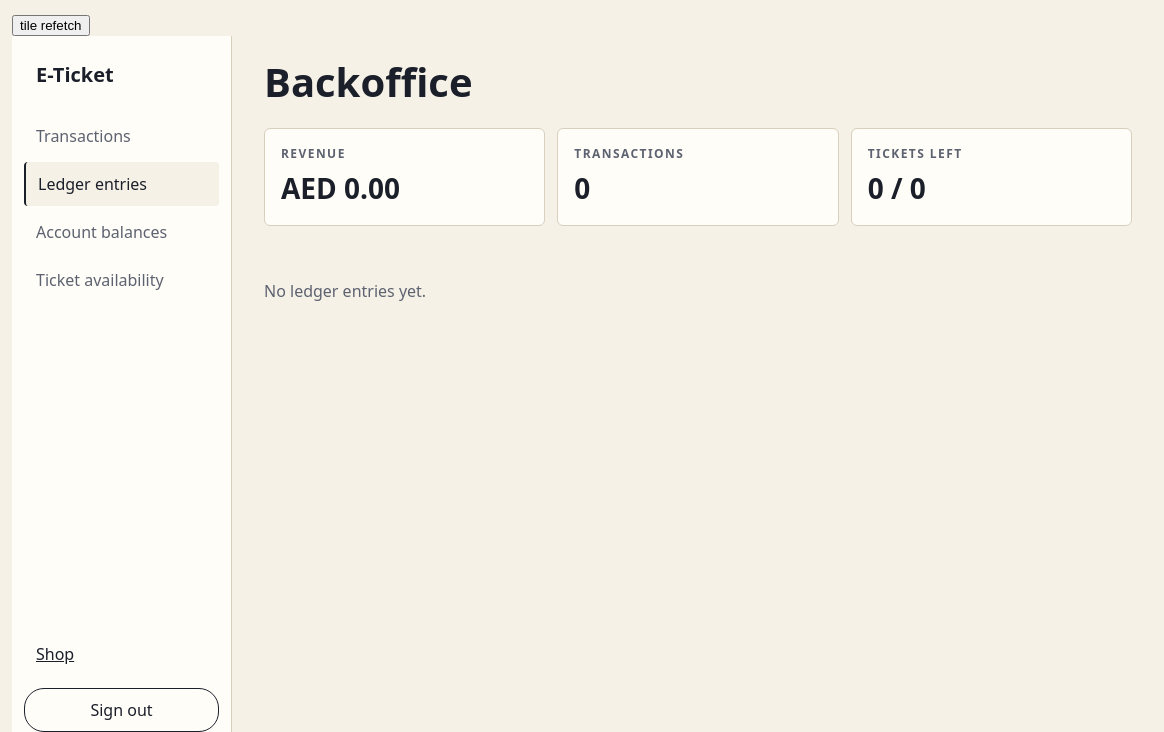
Test case: backoffice freshness › refetches an older-than-10s section once and shows Updating over the old data
Expected: the text "No ledger entries yet." is shown, x1=264 y1=280 x2=426 y2=302
Step 1. Click the tab "Account balances" → (122, 232), box x1=24 y1=210 x2=219 y2=254
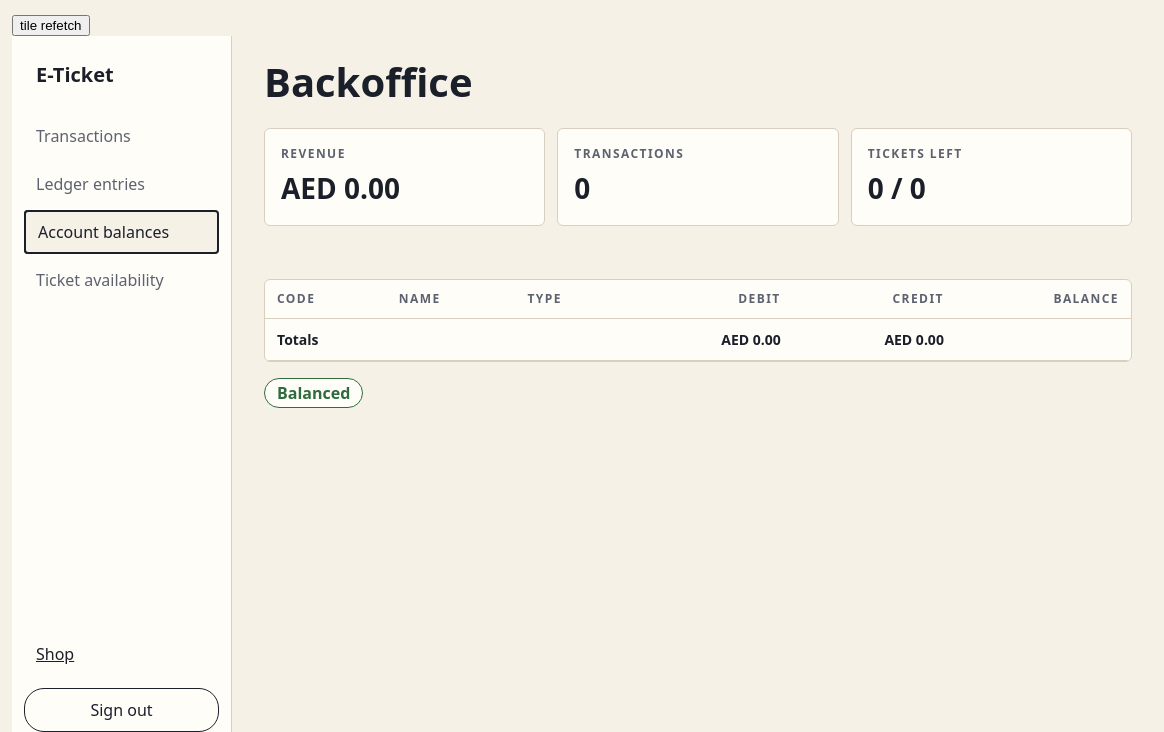
Expected: the text "Balanced" is shown, x1=264 y1=378 x2=363 y2=408
Step 2. Click the tab "Ledger entries" → (122, 184), box x1=24 y1=162 x2=219 y2=206
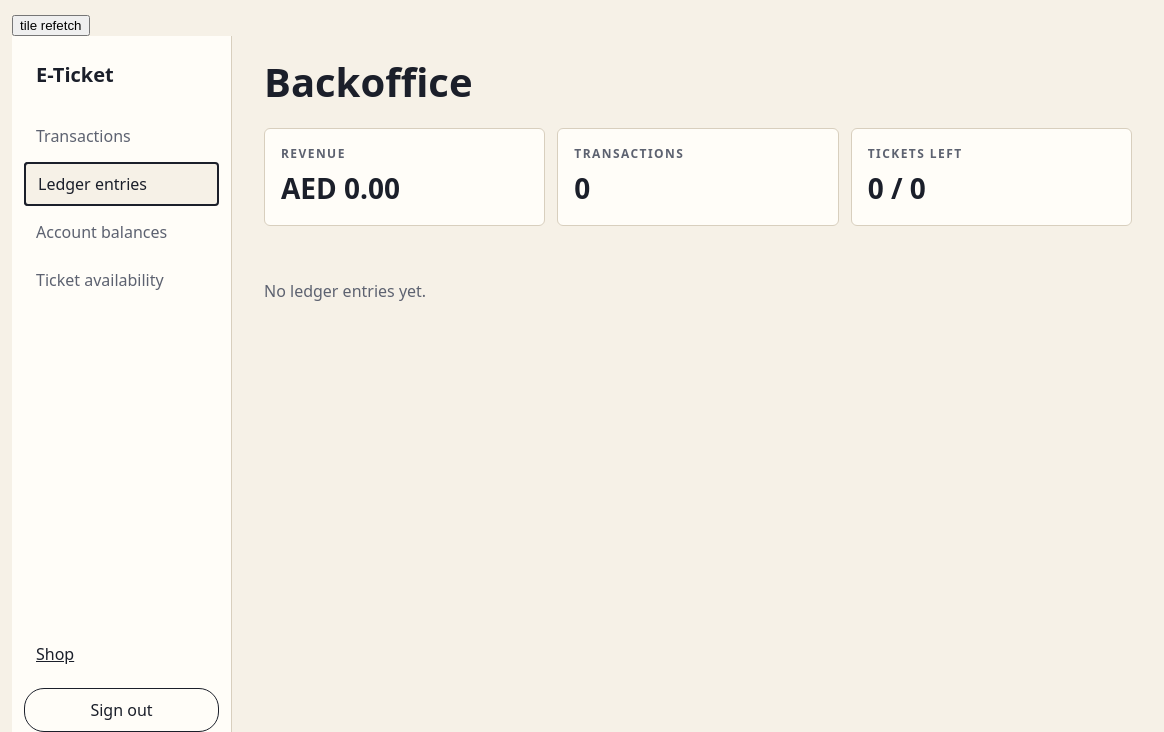
Expected: the text "No ledger entries yet." is shown, x1=264 y1=280 x2=426 y2=302
